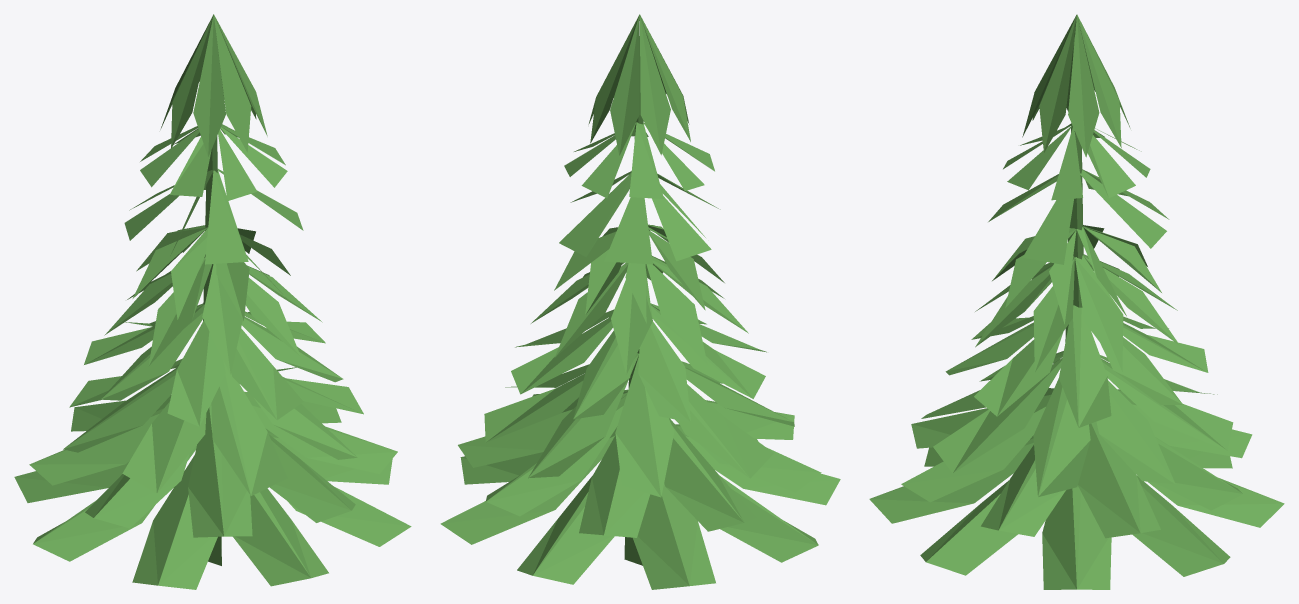
File: Fir_Tree_205face.fbx
The picture shows the model from 3 angles, left to right: view 1: azimuth 30°, elevation 25°; view 2: azimuth 150°, elevation 25°; view 3: azimuth 270°, elevation 25°; orthographic projection.
Parts seen in each view (by area): view 1: Fir-tree; view 2: Fir-tree; view 3: Fir-tree.
Boxes of the visible parts, x1,y1,x2,y2 form: Fir-tree: (14,14,411,589); Fir-tree: (440,14,840,589); Fir-tree: (869,14,1284,589).
Size of the model in its own units: 370 by 538 by 370.
